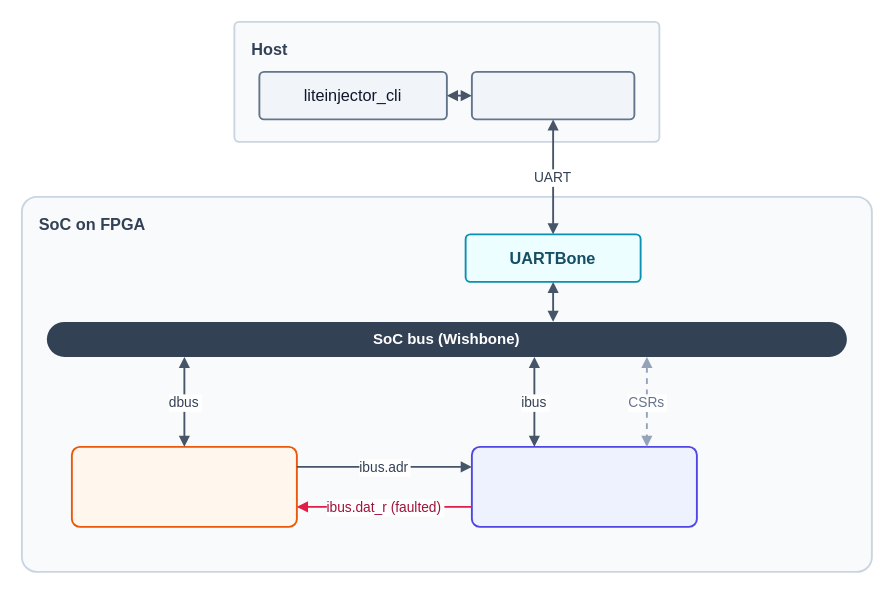
The diagram is 895 pixels wide and 595 high, and some of its shapes have lost their labels. The shapes that lost their labels are listed below. From the top down, each one's centre as x and y in pixels, then its label:
(x=552, y=95): litex_server
(x=183, y=486): VexRiscv CPU
(x=583, y=486): LiteInjector
